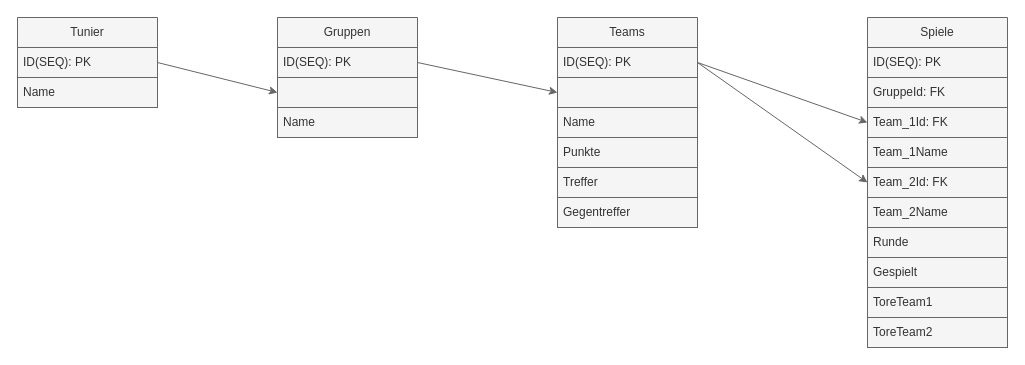
Image size: 1025x365. Some labels were removed from this diagram. The shapes that lost their labels are listed below. From the top down, each one's centre as x and y in pixels, then its label:
At pixel 347 92: "TunierID: PK/FK".
At pixel 627 92: "GruppenID:FK".
